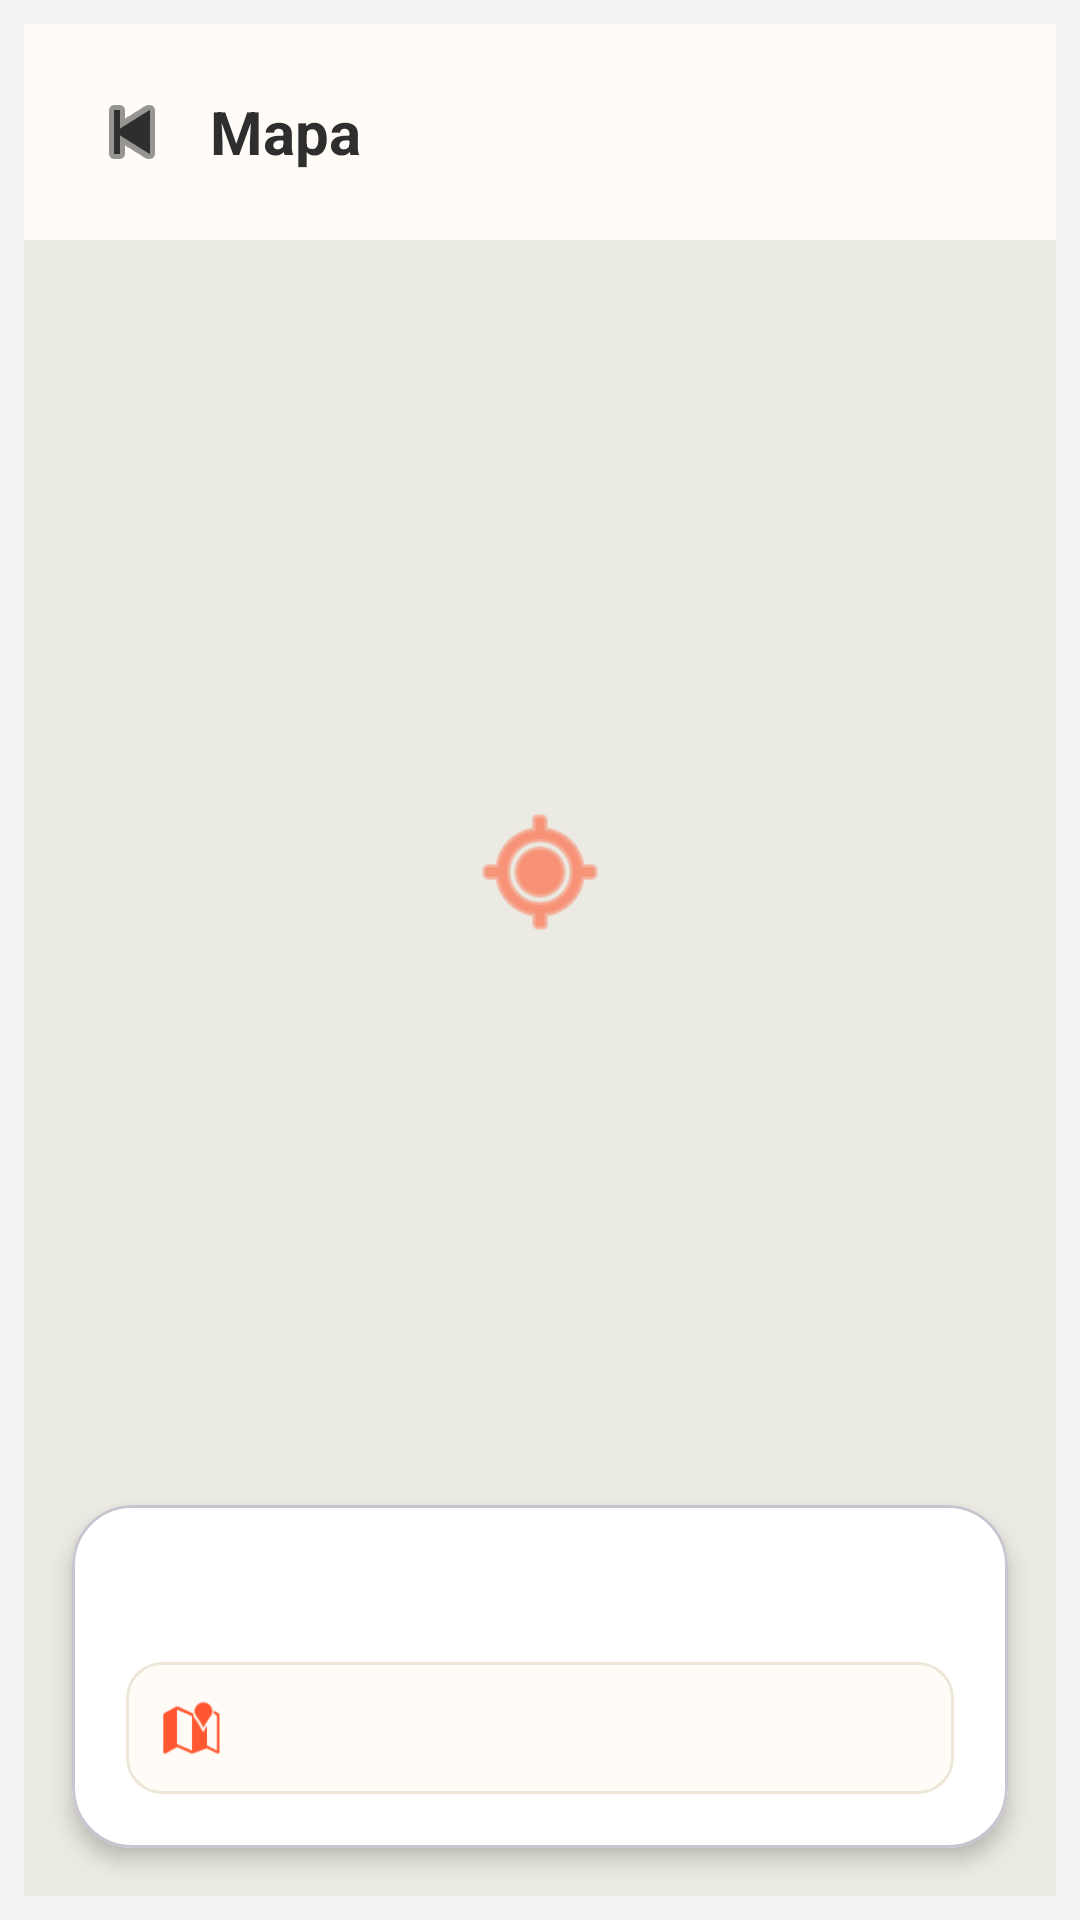

Icon bounding boxes for this 1080 × 1920 phone screenshot, format (x1, y1, x2, y2):
Marcador de ubicación: (482, 814, 597, 930)
Regresar: (109, 105, 155, 159)
Ubicación: (163, 1701, 220, 1754)
